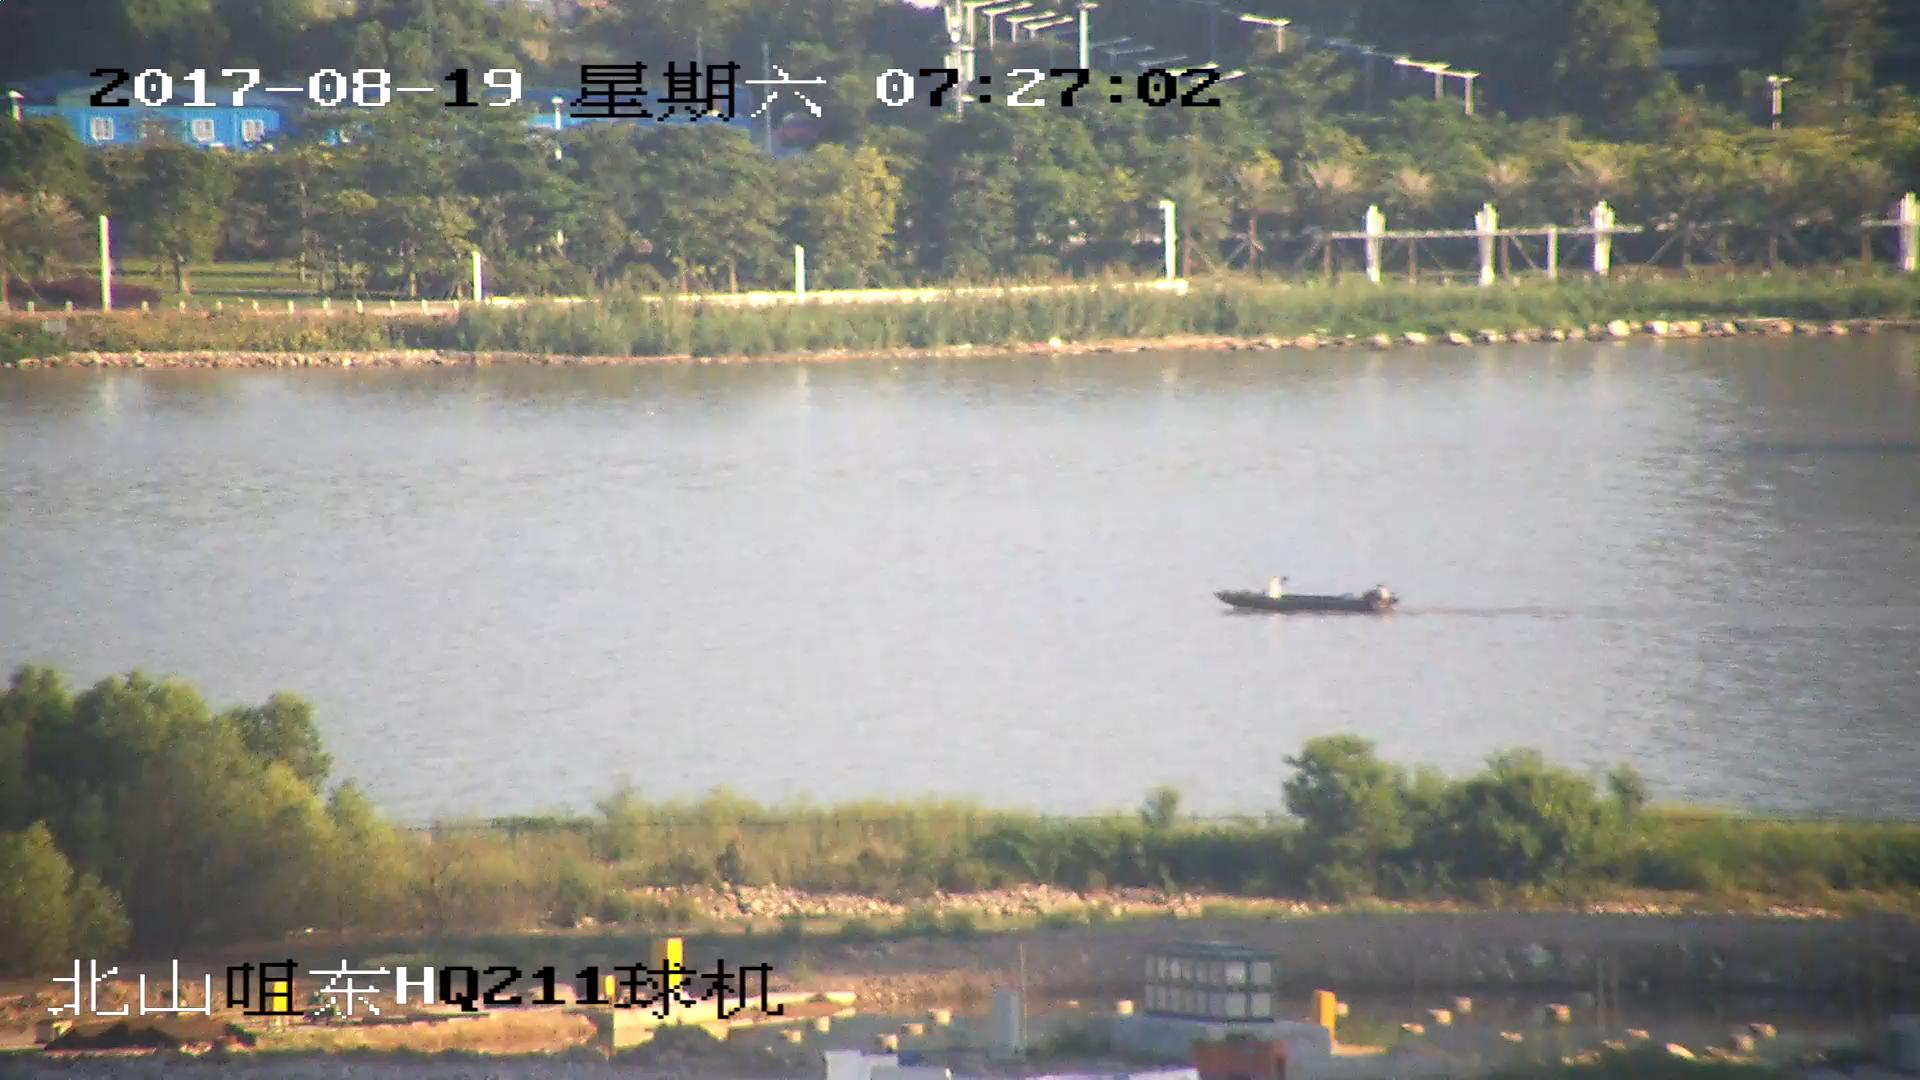fishing boat: (1217, 582, 1396, 618)
